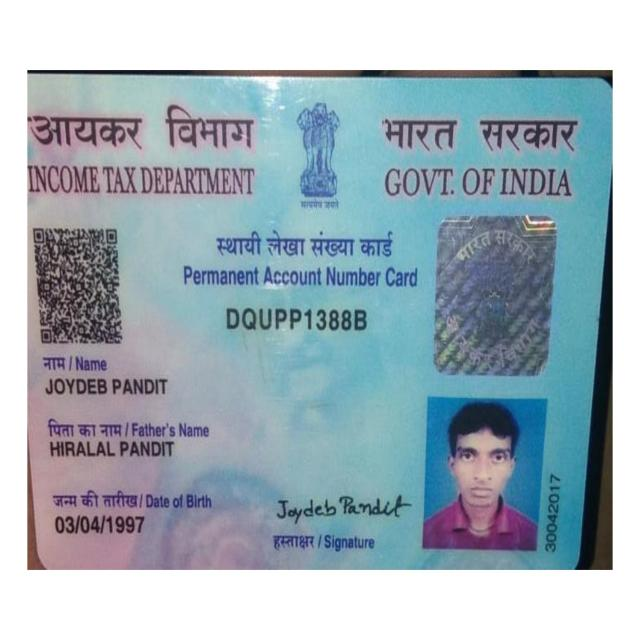pan_card: (27, 76, 598, 566)
